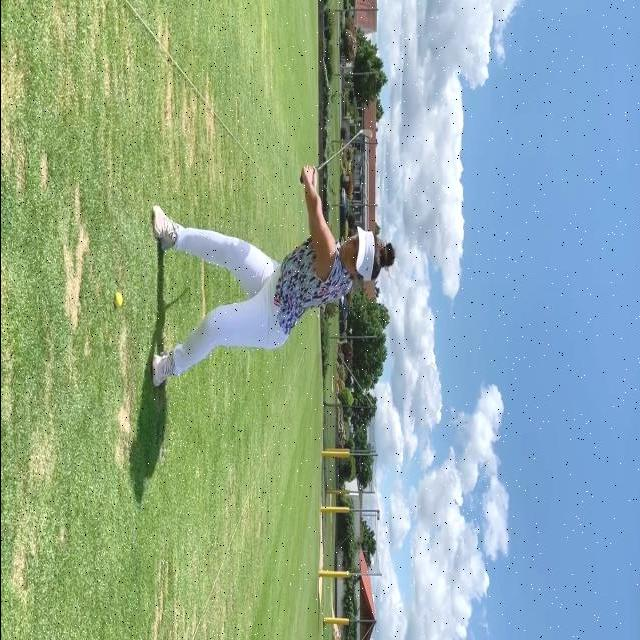golf ball: (113, 293, 121, 308)
golf club-handle: (299, 126, 373, 186)
golf club-head: (361, 128, 372, 139)
